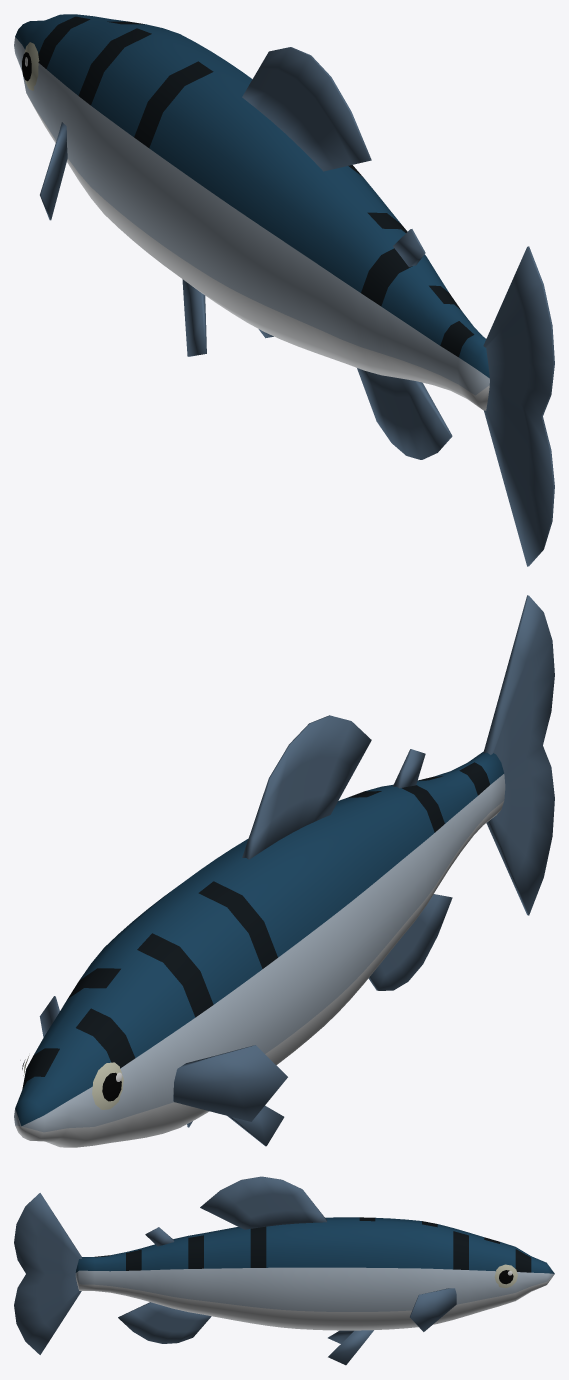
File: salmon.glb
3 views of the same model, one above another, from view 1: azimuth 30°, elevation 25°; view 2: azimuth 150°, elevation 25°; view 3: azimuth 270°, elevation 25° (orthographic). The views are drawn at different scales.
Visible parts, largest first — view 1: salmon; view 2: salmon; view 3: salmon.
Part boxes in pixels (left/top/right/bottom): salmon: left=14, top=14, right=554, bottom=566; salmon: left=14, top=595, right=554, bottom=1147; salmon: left=14, top=1176, right=554, bottom=1365.
Bounding box in the file's own units: 0.6389 × 0.8667 × 2.37.
